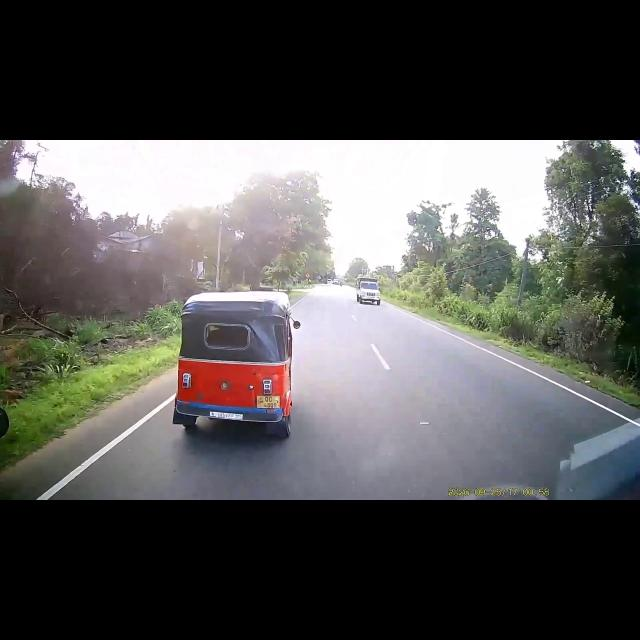broken_line: (348, 316, 394, 376)
car: (358, 275, 378, 307)
number_plate: (258, 394, 282, 408)
three_wheeler: (176, 297, 288, 428)
